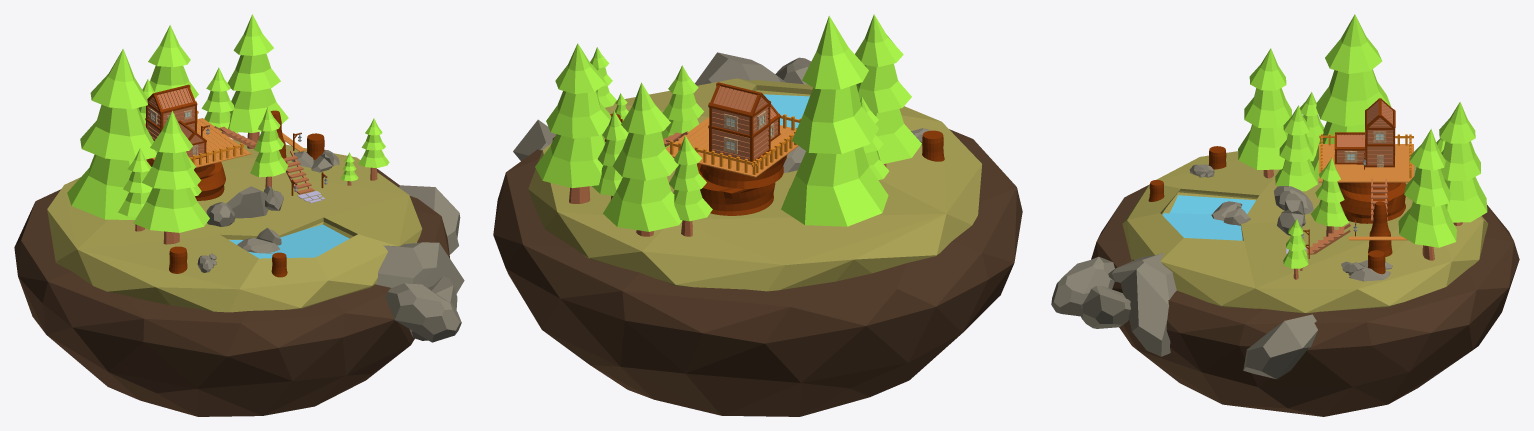
File: House-Learning.glb
3 renders of one model, left to right at view 1: azimuth 30°, elevation 25°; view 2: azimuth 150°, elevation 25°; view 3: azimuth 270°, elevation 25°, orthographic. The views are drawn at different scales.
Parts seen in each view (by area): view 1: Icosphere.003, Icosphere.004, Cylinder.008, Cylinder, Cylinder.014, Icosphere, Icosphere.002, Cylinder.012, Cylinder.010, Plane.001, Icosphere.016, Cylinder.007 (+13 smaller); view 2: Icosphere.003, Icosphere.004, Cylinder.008, Cylinder.014, Cylinder.012, Cylinder, Cylinder.005, Cylinder.011, Cylinder.010, HouseFloorOne.004, Icosphere.002, Cylinder.013 (+11 smaller); view 3: Icosphere.003, Icosphere.004, Cylinder.008, Cylinder.014, Cylinder, Icosphere.002, Cylinder.012, Icosphere.016, Cylinder.009, Icosphere, Cylinder.005, HouseFloorOne.004 (+13 smaller).
Part boxes in pixels (bbox=[...]): Icosphere.003: bbox=[14, 169, 449, 416]; Icosphere.004: bbox=[47, 139, 422, 312]; Cylinder.008: bbox=[67, 49, 157, 219]; Cylinder: bbox=[133, 110, 209, 244]; Cylinder.014: bbox=[227, 14, 288, 148]; Icosphere: bbox=[385, 282, 461, 342]; Icosphere.002: bbox=[376, 242, 464, 293]; Cylinder.012: bbox=[148, 25, 198, 98]; Cylinder.010: bbox=[250, 107, 288, 187]; Plane.001: bbox=[271, 224, 349, 257]; Icosphere.016: bbox=[399, 185, 460, 254]; Cylinder.007: bbox=[118, 148, 152, 231]; Icosphere.003: bbox=[493, 129, 1022, 416]; Icosphere.004: bbox=[528, 78, 982, 291]; Cylinder.008: bbox=[781, 15, 888, 226]; Cylinder.014: bbox=[535, 43, 611, 203]; Cylinder.012: bbox=[603, 82, 682, 236]; Cylinder: bbox=[855, 14, 921, 167]; Cylinder.005: bbox=[697, 155, 787, 215]; Cylinder.011: bbox=[669, 135, 712, 236]; Cylinder.010: bbox=[661, 65, 703, 148]; HouseFloorOne.004: bbox=[666, 117, 798, 177]; Icosphere.002: bbox=[695, 52, 785, 85]; Cylinder.013: bbox=[592, 111, 628, 199]; Icosphere.003: bbox=[1091, 185, 1519, 416]; Icosphere.004: bbox=[1122, 151, 1487, 313]; Cylinder.008: bbox=[1311, 14, 1391, 178]; Cylinder.014: bbox=[1398, 129, 1456, 260]; Cylinder: bbox=[1238, 48, 1291, 178]; Icosphere.002: bbox=[1108, 253, 1176, 356]; Cylinder.012: bbox=[1439, 102, 1487, 225]; Icosphere.016: bbox=[1243, 314, 1317, 379]; Cylinder.009: bbox=[1275, 105, 1317, 191]; Icosphere: bbox=[1051, 256, 1114, 316]; Cylinder.005: bbox=[1338, 182, 1406, 223]; HouseFloorOne.004: bbox=[1319, 144, 1413, 182].
Size of the model in its own units: 285 by 234 by 296.
16 materials, 3 textured.
